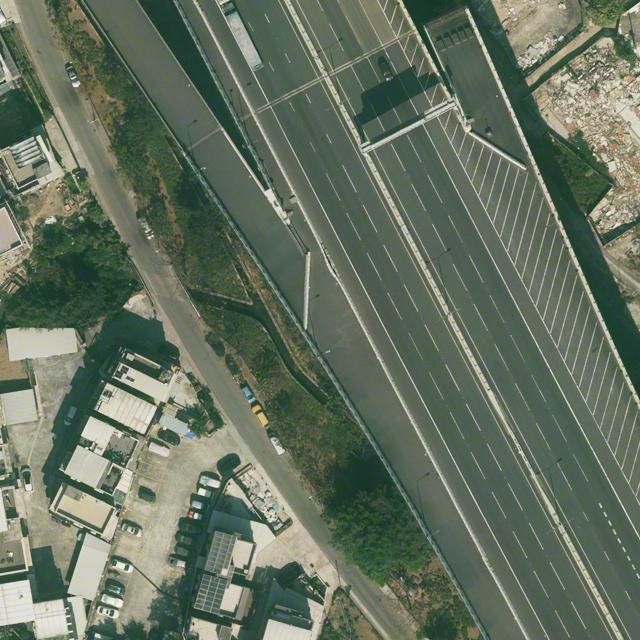panel: (195, 574, 228, 615), (205, 530, 232, 575), (223, 536, 237, 569)
